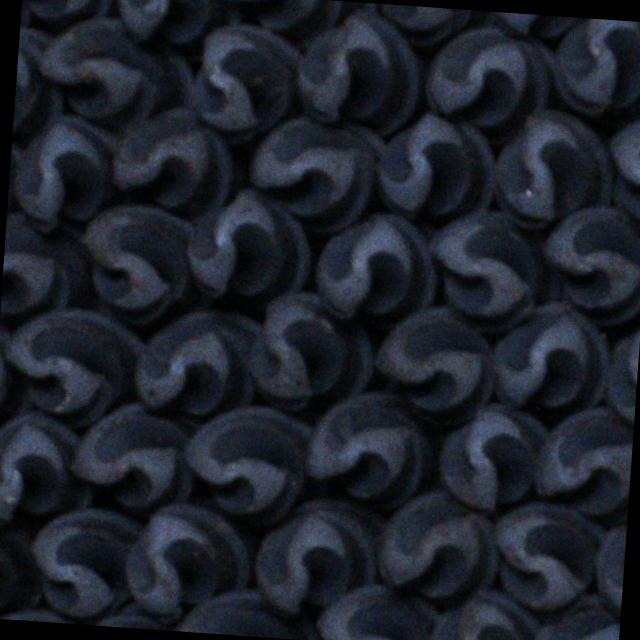tool_b: (423, 203, 566, 339), (38, 13, 194, 135), (0, 306, 149, 429), (246, 110, 388, 234), (180, 400, 314, 528), (251, 492, 386, 618), (294, 7, 424, 136), (120, 498, 252, 624), (422, 22, 555, 146), (246, 286, 377, 410), (303, 387, 437, 508), (489, 106, 613, 234), (371, 304, 497, 429), (182, 182, 312, 300), (186, 21, 308, 145), (374, 487, 504, 603), (67, 398, 199, 512), (374, 110, 500, 229), (485, 298, 611, 416), (310, 210, 440, 324), (132, 306, 263, 419), (74, 204, 195, 326), (110, 102, 234, 213), (10, 114, 120, 236), (536, 200, 640, 329), (488, 497, 604, 612), (435, 398, 550, 512), (26, 505, 137, 620), (532, 402, 634, 523), (0, 409, 97, 524), (0, 211, 92, 320), (549, 16, 640, 125), (168, 582, 328, 640), (217, 0, 371, 51), (313, 579, 440, 640), (429, 580, 543, 640), (116, 0, 238, 50), (0, 513, 45, 621), (531, 590, 621, 640)
